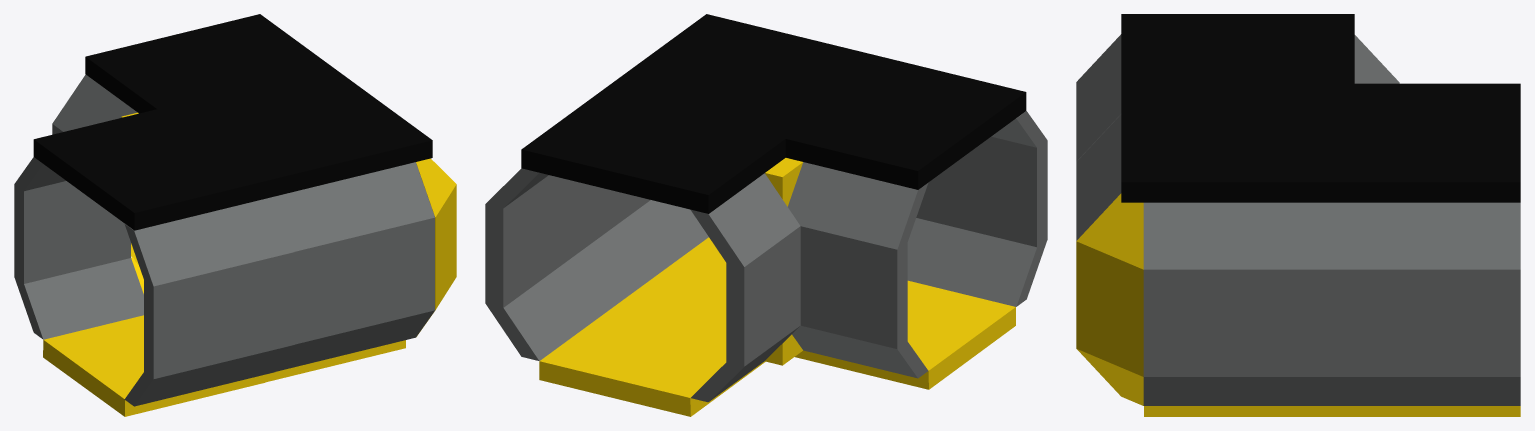
The model's file is hall-corner.fbx.
3 renders of one model, left to right at view 1: azimuth 30°, elevation 25°; view 2: azimuth 150°, elevation 25°; view 3: azimuth 270°, elevation 25°, orthographic. The views are drawn at different scales.
Parts seen in each view (by area): view 1: wall-TEST.007, wall-TEST.006, roof[regular].002, WC-1.001, roof[extremeMini].003, roof[mini].002, floor-TEST.003, WALL-CORNER(UV).002, WC-2.001, floor-TEST.008; view 2: WC-1.001, roof[mini].002, wall-TEST.007, roof[extremeMini].003, wall-TEST.005, roof[regular].002, floor-TEST.007, WC-2.001, floor-TEST.003, wall-TEST.004, floor-TEST.008, WALL-CORNER 2(bottom).001 (+1 smaller); view 3: wall-TEST.004, wall-TEST.005, roof[regular].002, roof[mini].002, roof[extremeMini].003, WALL-CORNER(UV).002, wall-TEST.007, wall-TEST.006, floor-TEST.007, floor-TEST.008, WC-1.001.
Boxes of the visible parts, bbox=[...] form: wall-TEST.007: bbox=[124, 196, 294, 406]; wall-TEST.006: bbox=[275, 162, 434, 371]; roof[regular].002: bbox=[167, 73, 432, 200]; WC-1.001: bbox=[14, 157, 143, 339]; roof[extremeMini].003: bbox=[33, 109, 257, 230]; roof[mini].002: bbox=[85, 14, 340, 115]; floor-TEST.003: bbox=[43, 315, 265, 416]; WALL-CORNER(UV).002: bbox=[416, 158, 456, 337]; WC-2.001: bbox=[52, 74, 137, 134]; floor-TEST.008: bbox=[265, 340, 405, 382]; WC-1.001: bbox=[788, 162, 928, 378]; roof[mini].002: bbox=[521, 85, 795, 213]; wall-TEST.007: bbox=[907, 111, 1047, 306]; roof[extremeMini].003: bbox=[785, 60, 1026, 189]; wall-TEST.005: bbox=[485, 168, 626, 360]; roof[regular].002: bbox=[609, 14, 893, 130]; floor-TEST.007: bbox=[539, 297, 765, 416]; WC-2.001: bbox=[691, 173, 800, 402]; floor-TEST.003: bbox=[795, 280, 1015, 389]; wall-TEST.004: bbox=[590, 185, 708, 296]; floor-TEST.008: bbox=[627, 237, 726, 321]; WALL-CORNER 2(bottom).001: bbox=[765, 158, 802, 206]; wall-TEST.004: bbox=[1143, 202, 1332, 405]; wall-TEST.005: bbox=[1332, 202, 1520, 405]; roof[regular].002: bbox=[1121, 83, 1332, 202]; roof[mini].002: bbox=[1332, 83, 1520, 202]; roof[extremeMini].003: bbox=[1121, 14, 1354, 83]; WALL-CORNER(UV).002: bbox=[1076, 193, 1143, 405]; wall-TEST.007: bbox=[1076, 34, 1121, 240]; wall-TEST.006: bbox=[1076, 114, 1121, 240]; floor-TEST.007: bbox=[1332, 406, 1520, 416]; floor-TEST.008: bbox=[1144, 406, 1332, 416]; WC-1.001: bbox=[1354, 35, 1399, 83].
Bounding box in the file's own units: 989 × 600 × 990.
